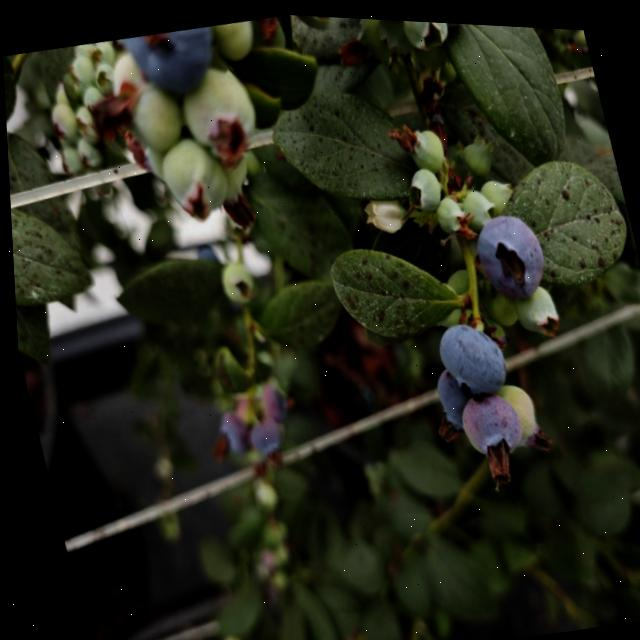RipeBlueBerry: (463, 200, 554, 305), (429, 309, 511, 401)
Semi-RipeBlueBerry: (449, 382, 527, 463)
UnripeBlueBerry: (175, 58, 268, 163), (154, 130, 235, 225), (123, 78, 187, 153), (401, 119, 450, 177), (401, 161, 447, 219), (397, 16, 456, 53)
